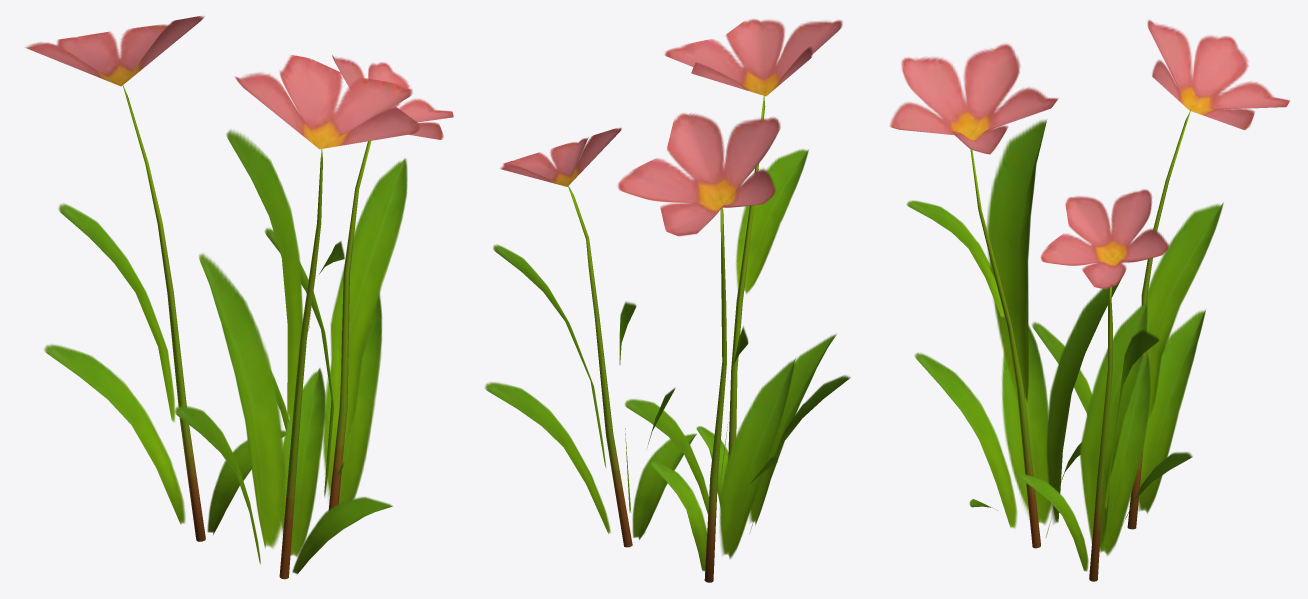
The model's file is flowergroup1.glb.
3 renders of one model, left to right at view 1: azimuth 30°, elevation 25°; view 2: azimuth 150°, elevation 25°; view 3: azimuth 270°, elevation 25°, orthographic. The views are drawn at different scales.
Parts seen in each view (by area): view 1: Flower_3_Group; view 2: Flower_3_Group; view 3: Flower_3_Group.
Part boxes in pixels (bbox=[...]): Flower_3_Group: bbox=[25, 16, 453, 579]; Flower_3_Group: bbox=[485, 19, 850, 582]; Flower_3_Group: bbox=[890, 19, 1289, 581].
Size of the model in its own units: 1.49 by 2.05 by 1.59.
2 materials, 2 textured.
